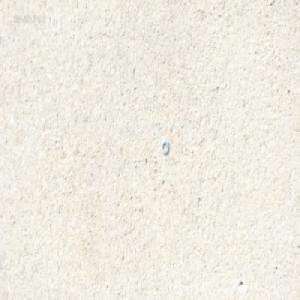Washer: (161, 139, 169, 154)
